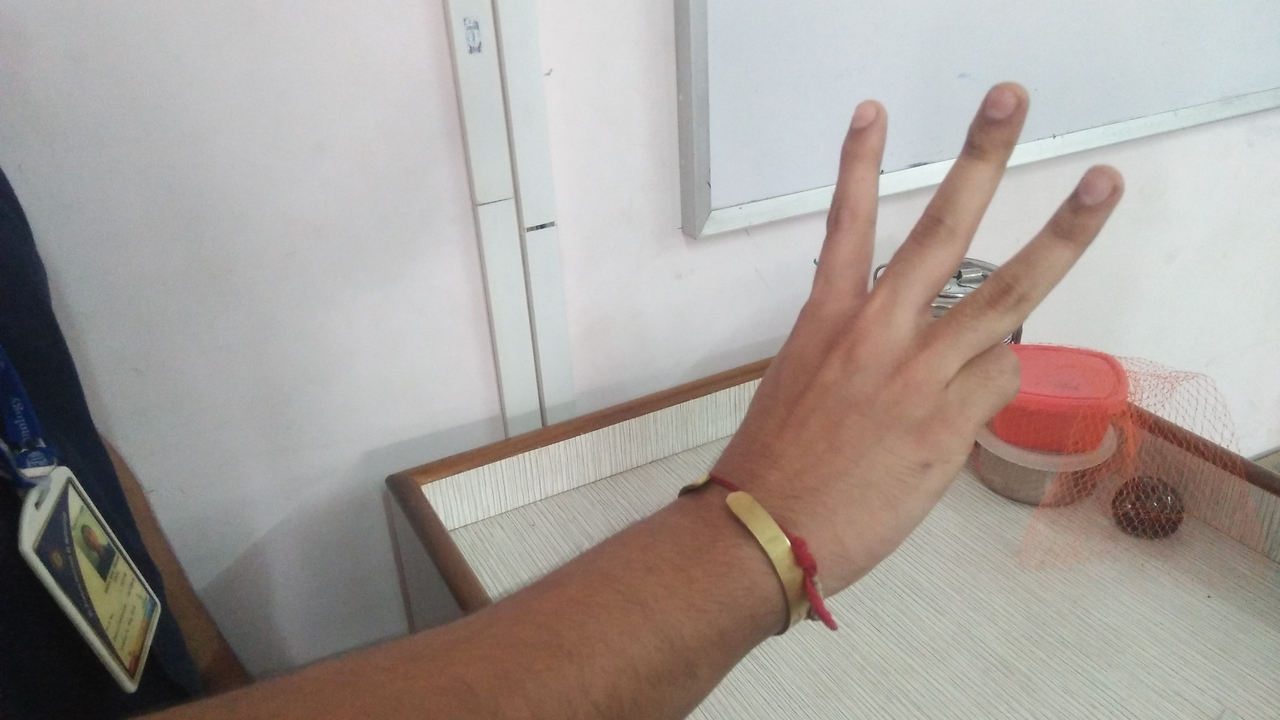fingertip: (1064, 156, 1138, 212), (978, 76, 1040, 128), (842, 92, 900, 138)
